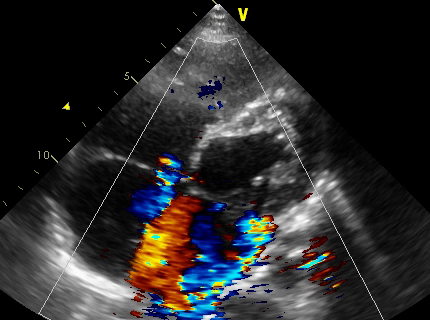TR: (94, 149, 183, 220)
